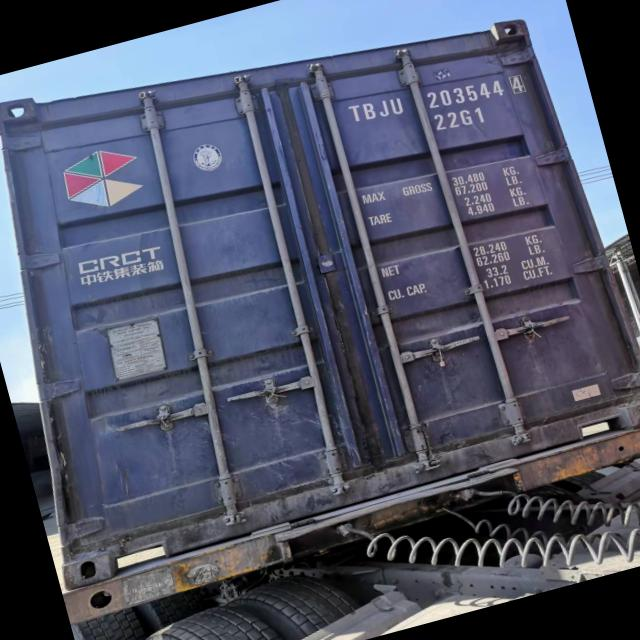seal: (422, 333, 452, 372)
